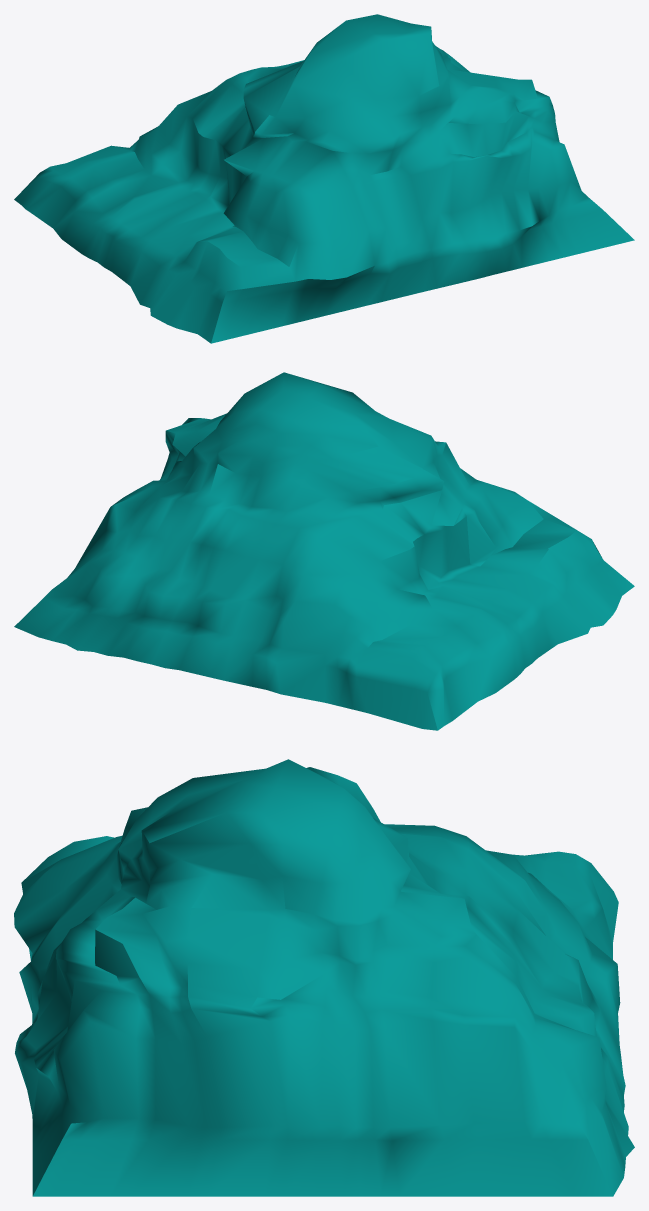
The model's file is fol_rock_05_uv.fbx.
3 renders of one model, top to bottom at view 1: azimuth 30°, elevation 25°; view 2: azimuth 150°, elevation 25°; view 3: azimuth 270°, elevation 25°, orthographic. The views are drawn at different scales.
Parts seen in each view (by area): view 1: fol_rock_05_uv; view 2: fol_rock_05_uv; view 3: fol_rock_05_uv.
Boxes of the visible parts, x1=… form: fol_rock_05_uv: x1=14, y1=14, x2=634, y2=343; fol_rock_05_uv: x1=14, y1=372, x2=634, y2=730; fol_rock_05_uv: x1=14, y1=759, x2=634, y2=1196.
Bounding box in the file's own units: 8.79 × 3.74 × 7.31.
